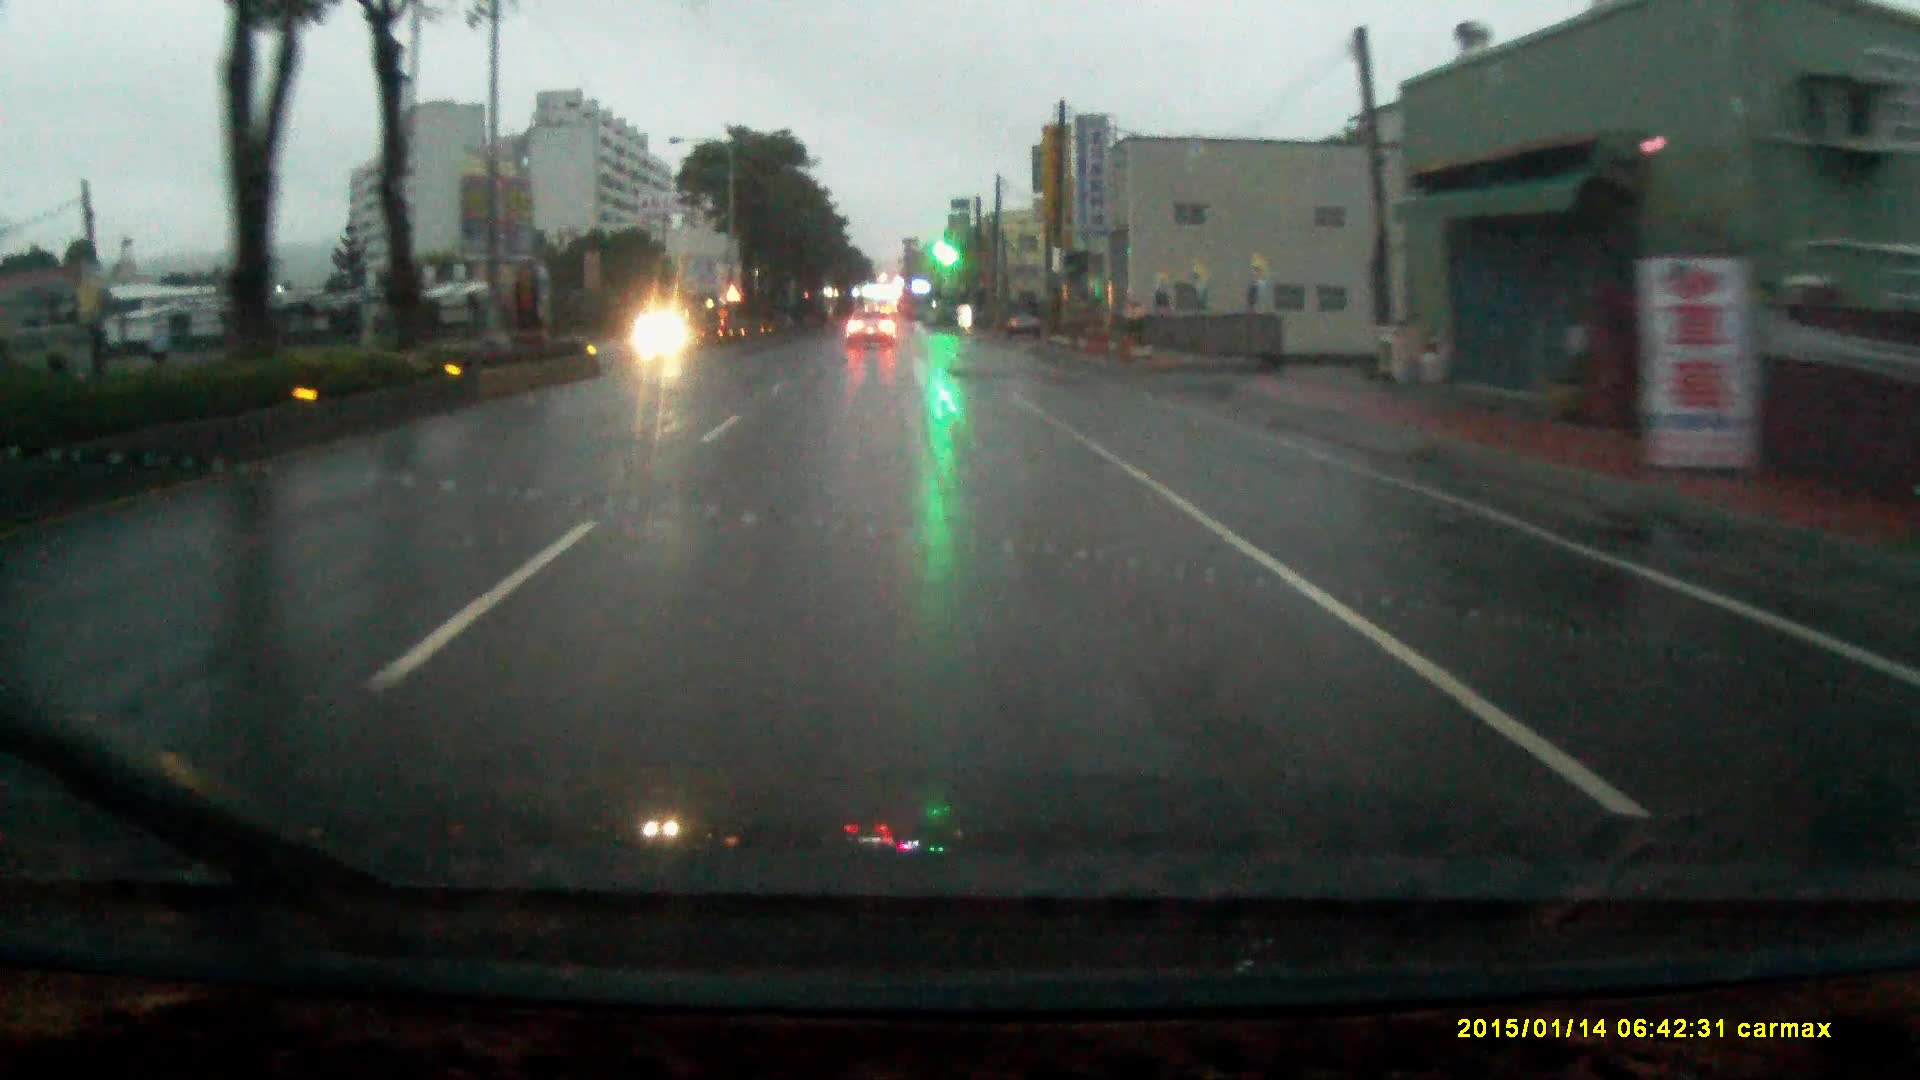vehicle: (847, 313, 899, 353), (1010, 284, 1046, 326)
